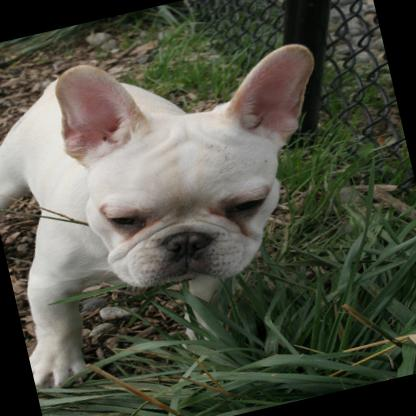French_bulldog: (0, 9, 375, 393)
